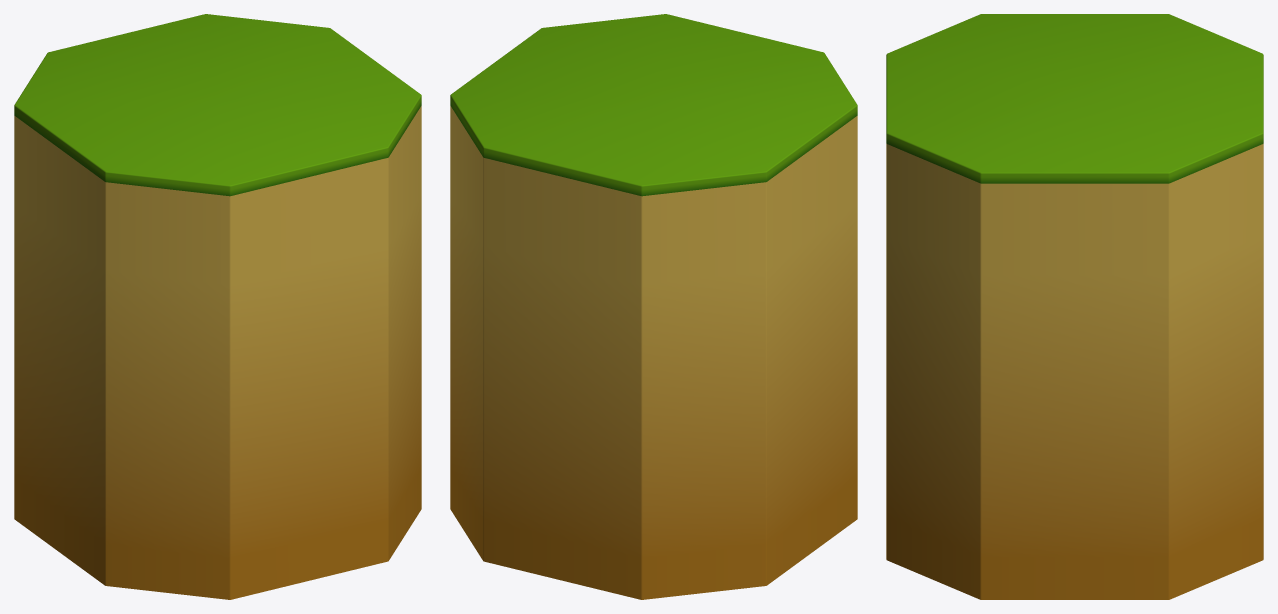
Rendered from LM40OCT.fbx.
3 views of the same model, side by side, from view 1: azimuth 30°, elevation 25°; view 2: azimuth 150°, elevation 25°; view 3: azimuth 270°, elevation 25° (orthographic). The views are drawn at different scales.
Parts seen in each view (by area): view 1: LOD0; view 2: LOD0; view 3: LOD0.
Boxes of the visible parts, x1,y1,x2,y2 form: LOD0: (14,14,421,599); LOD0: (450,14,857,599); LOD0: (886,14,1263,599).
Size of what is drawn, in the model's own units: 4000 by 4000 by 5000.
